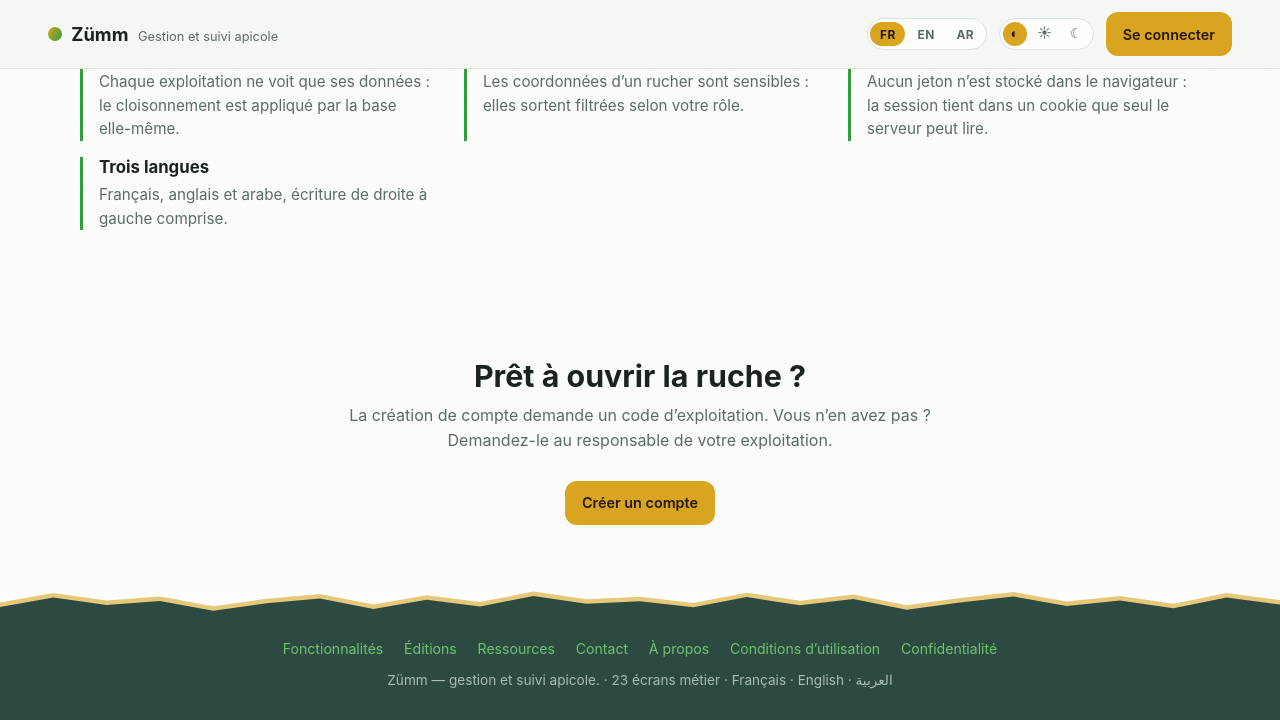
it: ossature de la console › mène de l’accueil aux pages d’information par le pied
The image size is (1280, 720).
(page scrolled)
Step 1. Click the button "Confidentialité" → (949, 648), box [895,636,1004,660]
(page scrolled)
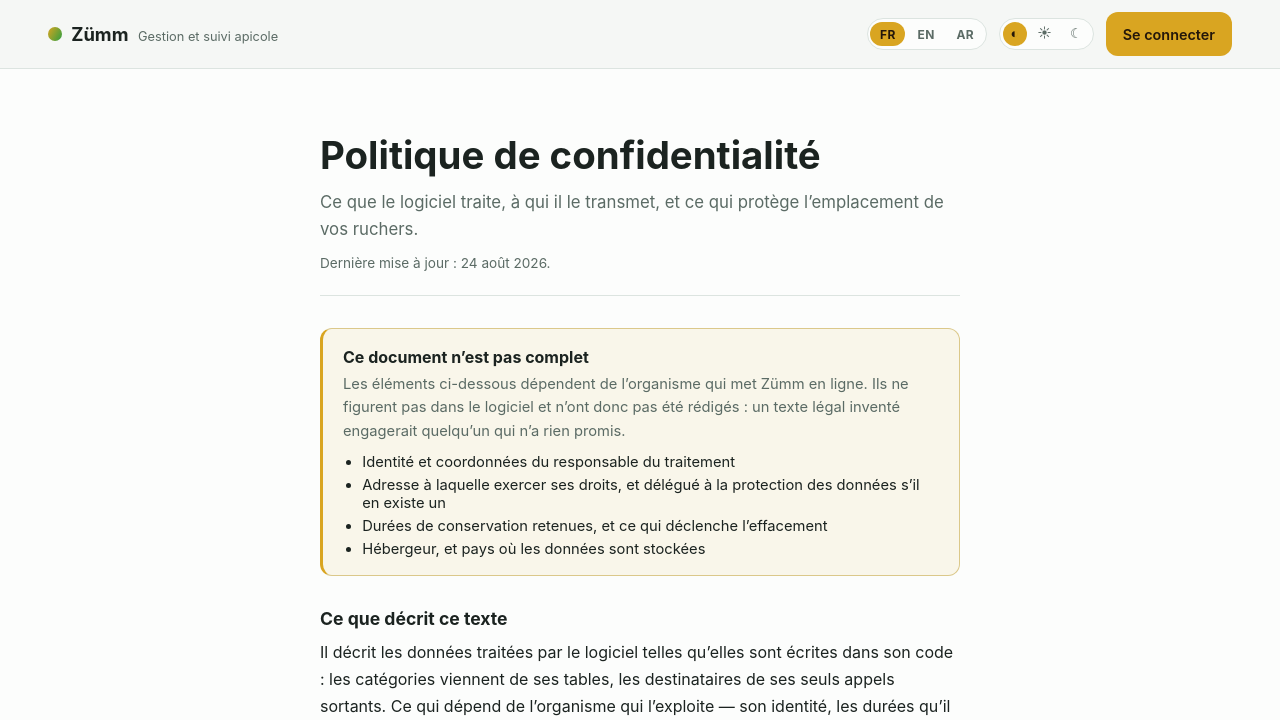
Expected: the heading "Politique de confidentialité" is shown, [320,132,821,178]
